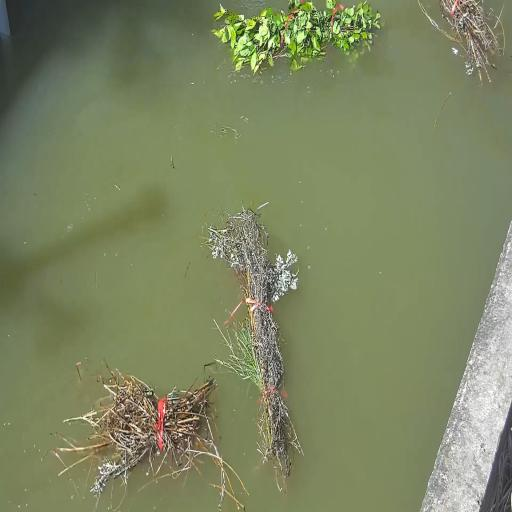twig: (56, 367, 248, 508), (205, 205, 302, 479), (212, 0, 381, 73), (418, 0, 503, 81), (150, 379, 215, 452)
